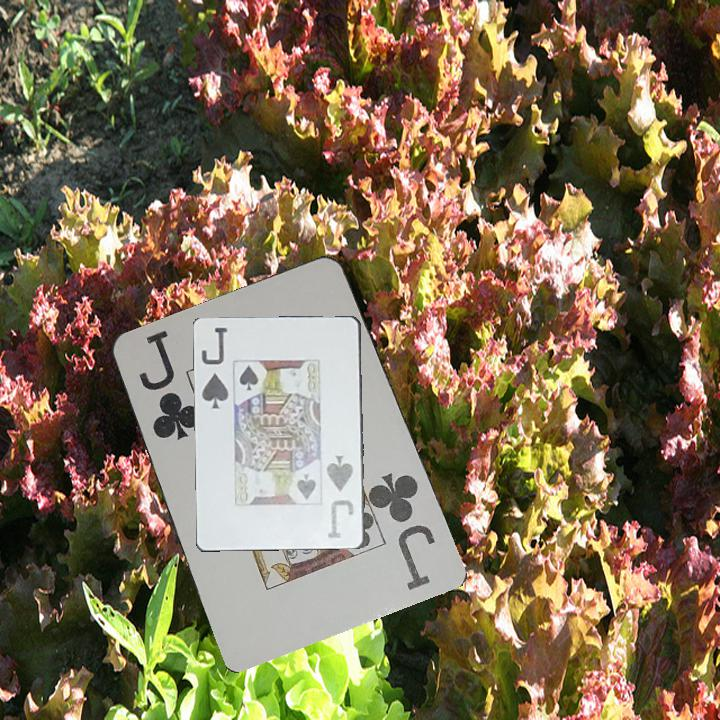Jc: (365, 469, 439, 593), (135, 328, 198, 443)
Js: (323, 453, 358, 544), (198, 324, 232, 412)
